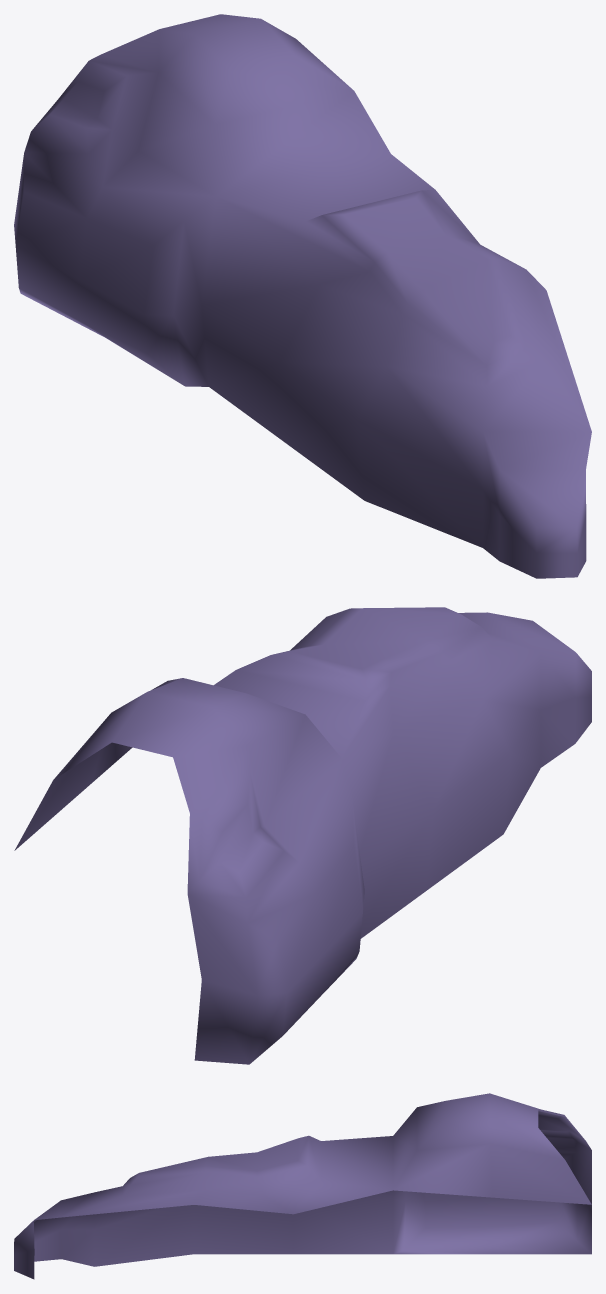
File: Cliff.fbx
The picture shows the model from 3 angles, top to bottom: view 1: azimuth 30°, elevation 25°; view 2: azimuth 150°, elevation 25°; view 3: azimuth 270°, elevation 25°; orthographic projection. The views are drawn at different scales.
Parts seen in each view (by area): view 1: Rock_Wall; view 2: Rock_Wall; view 3: Rock_Wall.
Part boxes in pixels (x1,y1,x2,y2): Rock_Wall: (14,14,591,578); Rock_Wall: (14,607,591,1064); Rock_Wall: (14,1093,591,1279).
Size of the model in its own units: 5.81 by 6.36 by 18.38.
